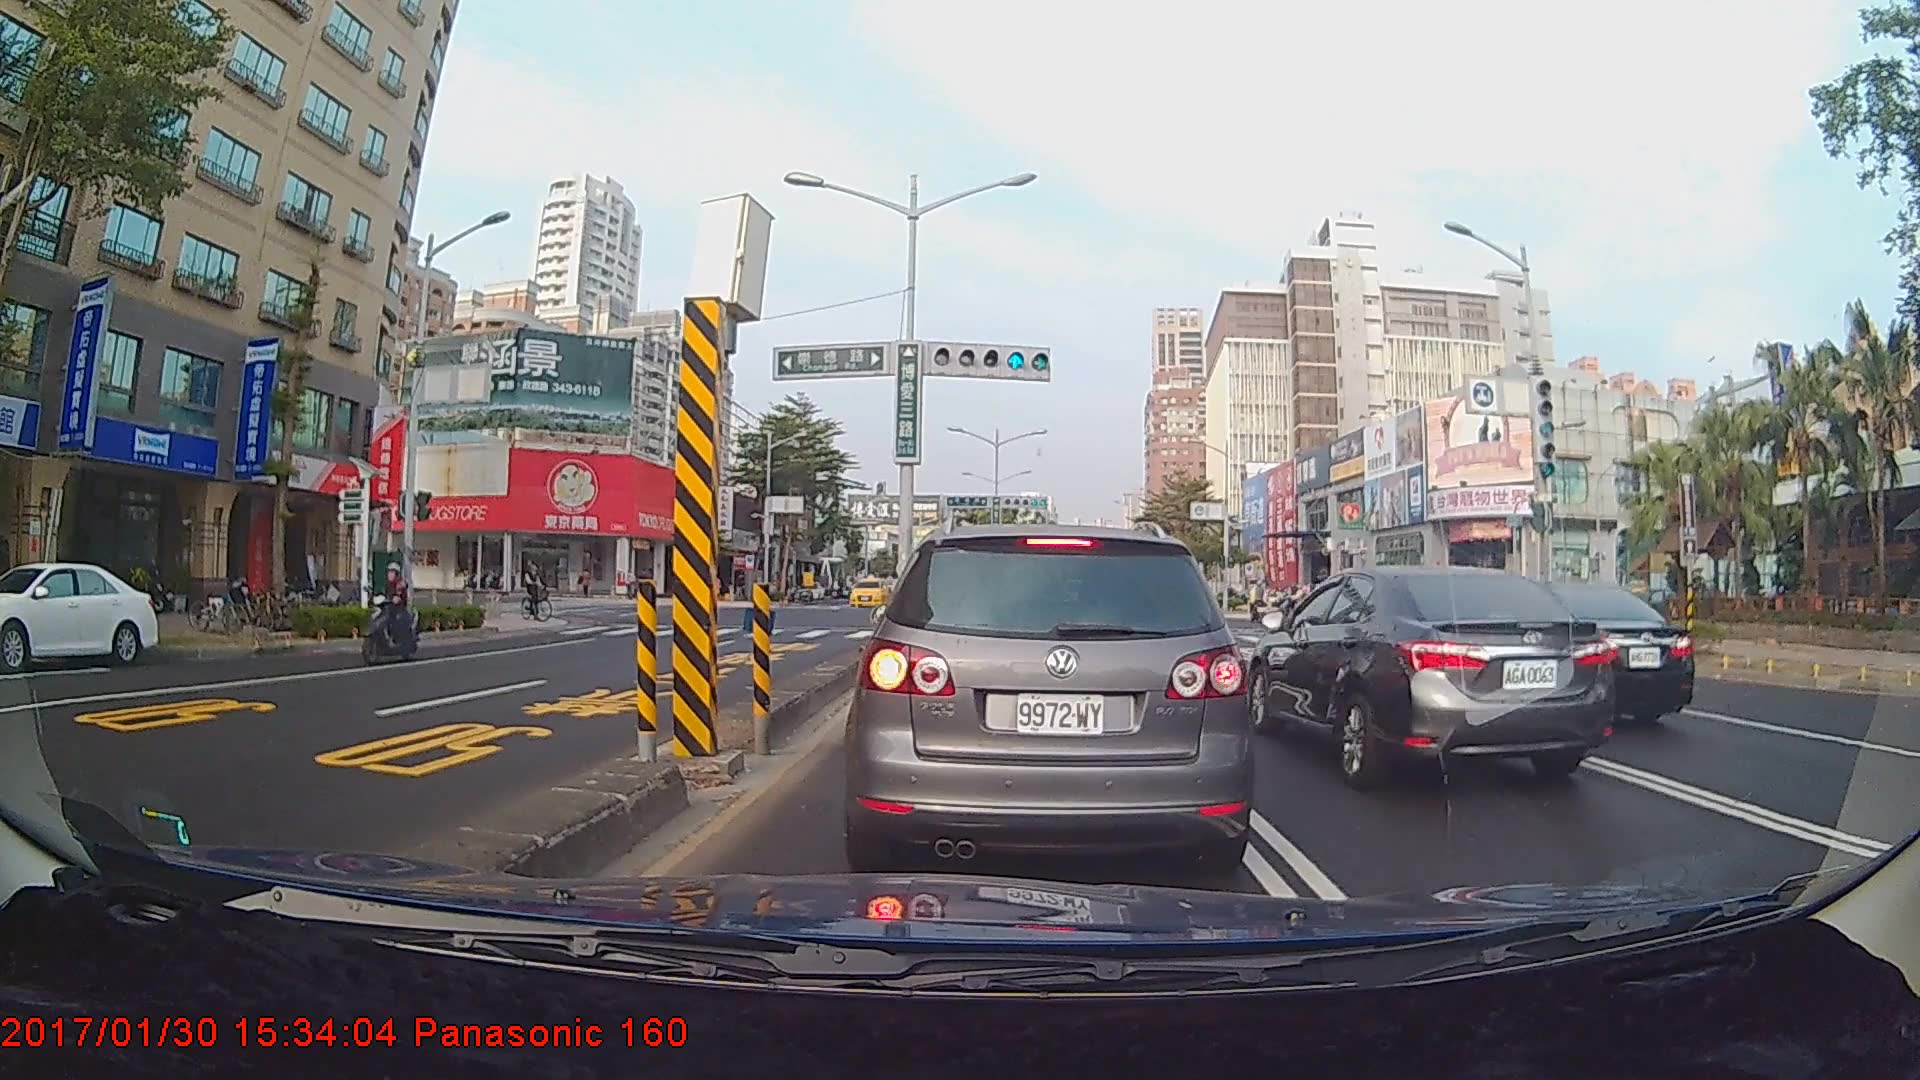rider: (356, 563, 427, 668), (518, 559, 561, 625), (1246, 574, 1273, 631)
vehicle: (858, 522, 1248, 874), (1249, 562, 1615, 790), (1454, 580, 1696, 731), (0, 561, 162, 671), (849, 577, 890, 607)
